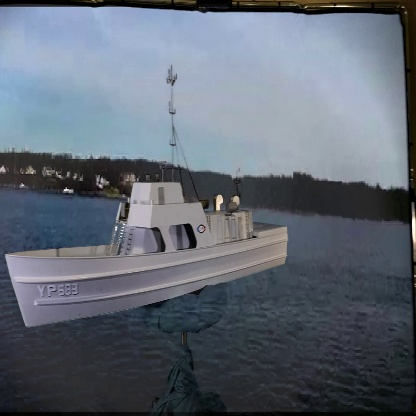YP689: (4, 64, 288, 331)
